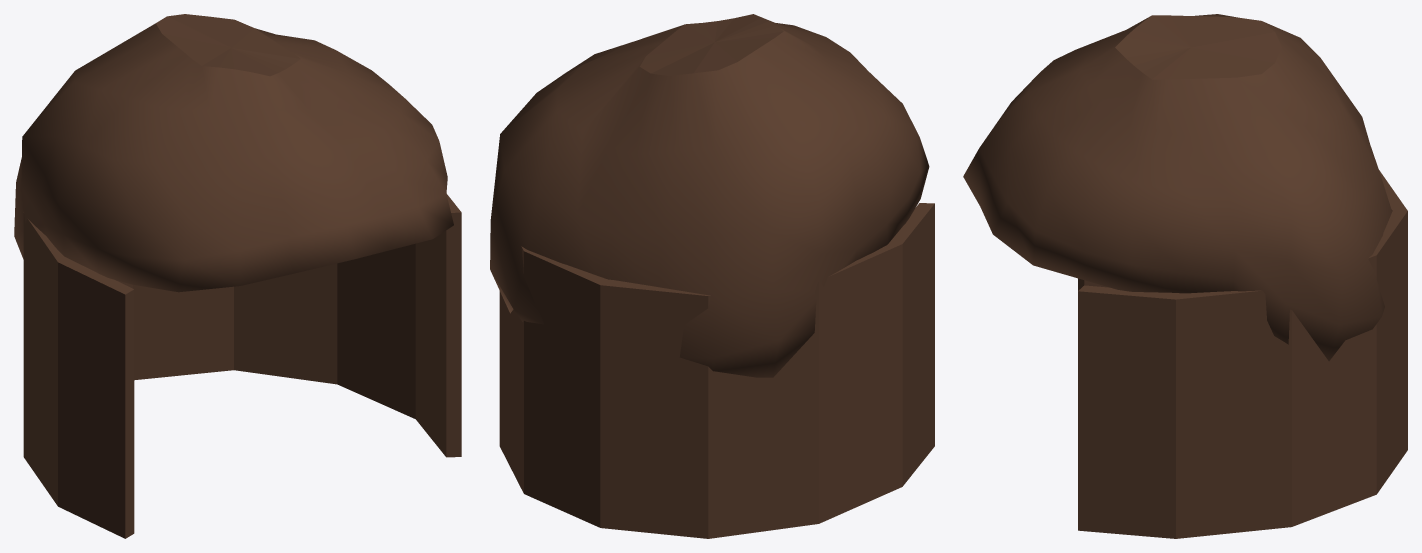
Rendered from bob_lateral.glb.
3 views of the same model, side by side, from view 1: azimuth 30°, elevation 25°; view 2: azimuth 150°, elevation 25°; view 3: azimuth 270°, elevation 25° (orthographic). The views are drawn at different scales.
Parts seen in each view (by area): view 1: EA_lateral_blocado, R106_Bob_blocado; view 2: EA_lateral_blocado, R106_Bob_blocado; view 3: EA_lateral_blocado, R106_Bob_blocado.
Boxes of the visible parts, left/top/right/bottom form: EA_lateral_blocado: left=14, top=14, right=453, bottom=292; R106_Bob_blocado: left=23, top=193, right=461, bottom=538; EA_lateral_blocado: left=490, top=14, right=929, bottom=377; R106_Bob_blocado: left=499, top=203, right=934, bottom=538; EA_lateral_blocado: left=963, top=14, right=1391, bottom=361; R106_Bob_blocado: left=1078, top=170, right=1407, bottom=538.
Bounding box in the file's own units: 0.248 × 0.2665 × 0.2627.
